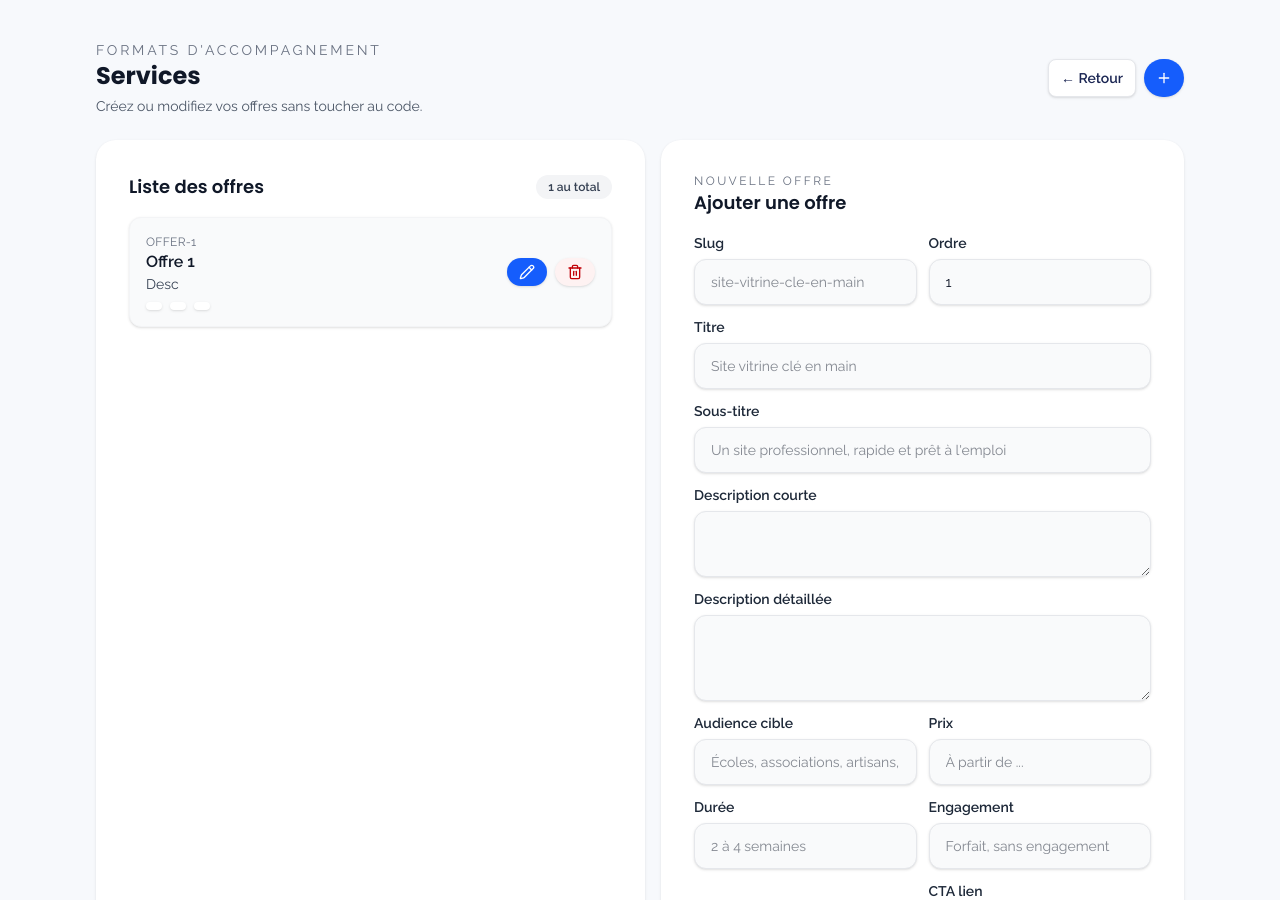
Test case: ConfirmModal delete flows across dashboard lists › service offers list uses a confirm modal that closes after delete
This screenshot has width=1280, height=900.
What coordinates should you click on to do the following:
click the button named "supprimer"
I would click on:
 (575, 272)
Its box is [555,258,595,286].
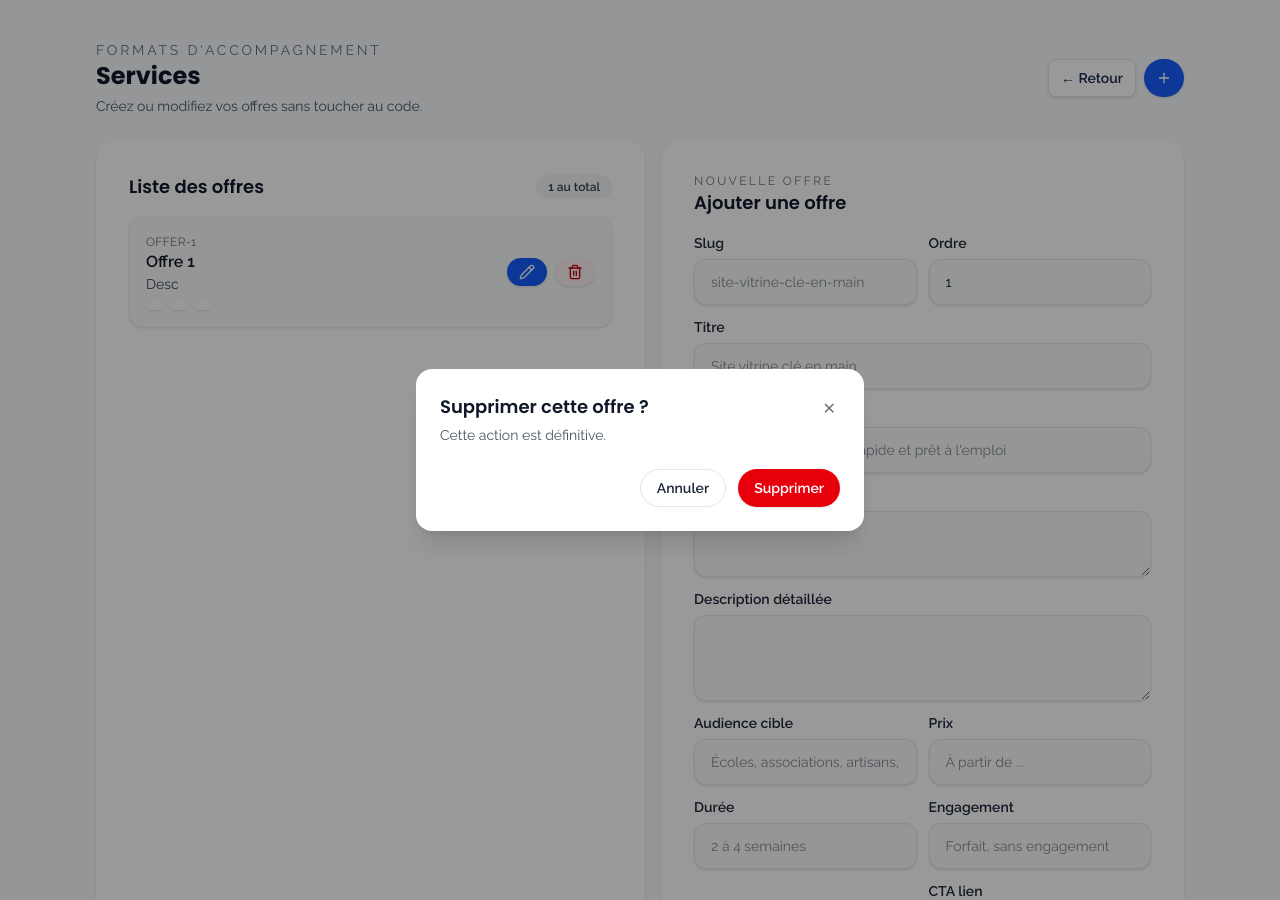
Check: the heading "Supprimer cette offre ?" is shown, box [440,393,649,421]
What coordinates should you click on to do the following:
click the button "Supprimer"
I would click on:
 (789, 488)
Its box is [738,469,840,507].
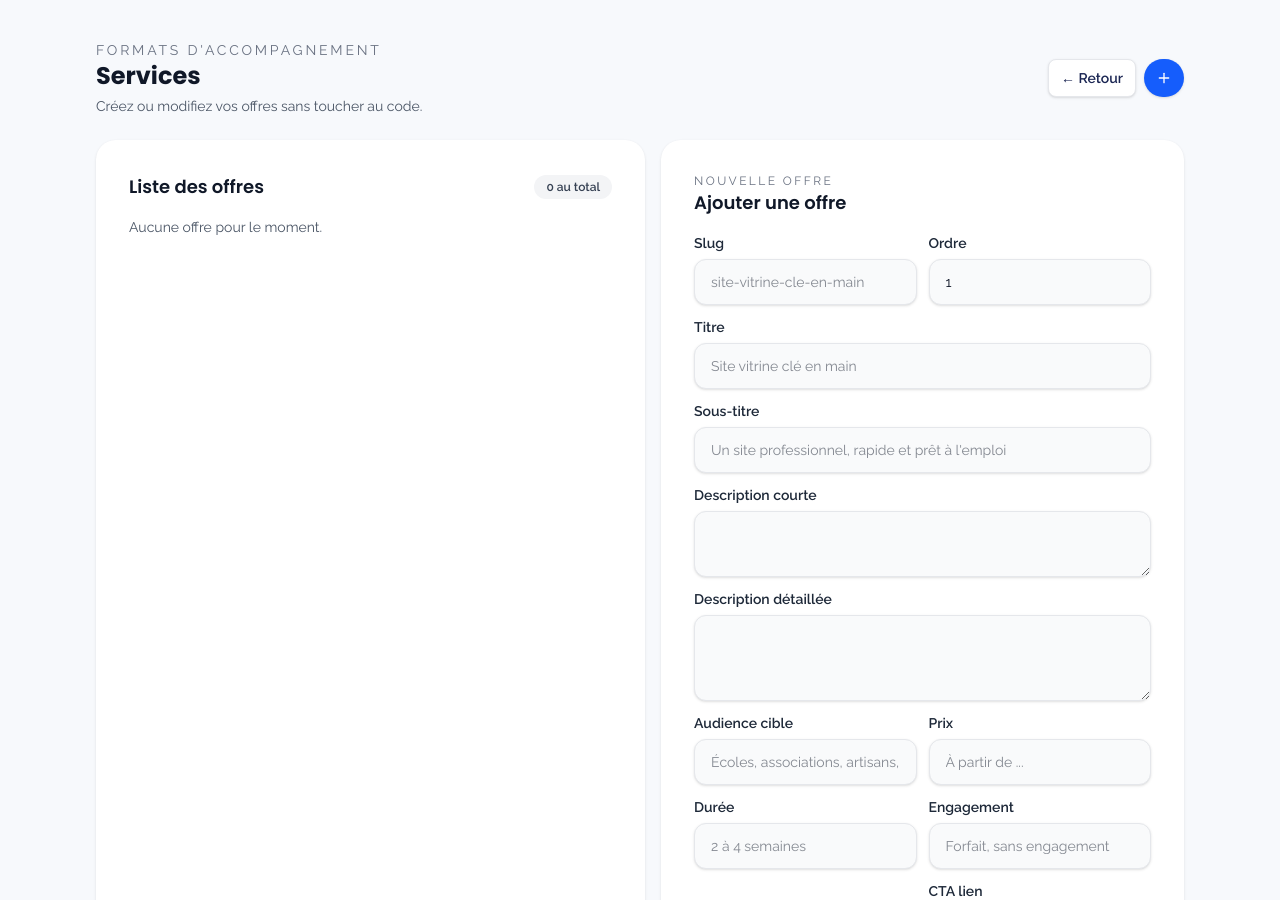
Check: the heading "Supprimer cette offre" is gone
